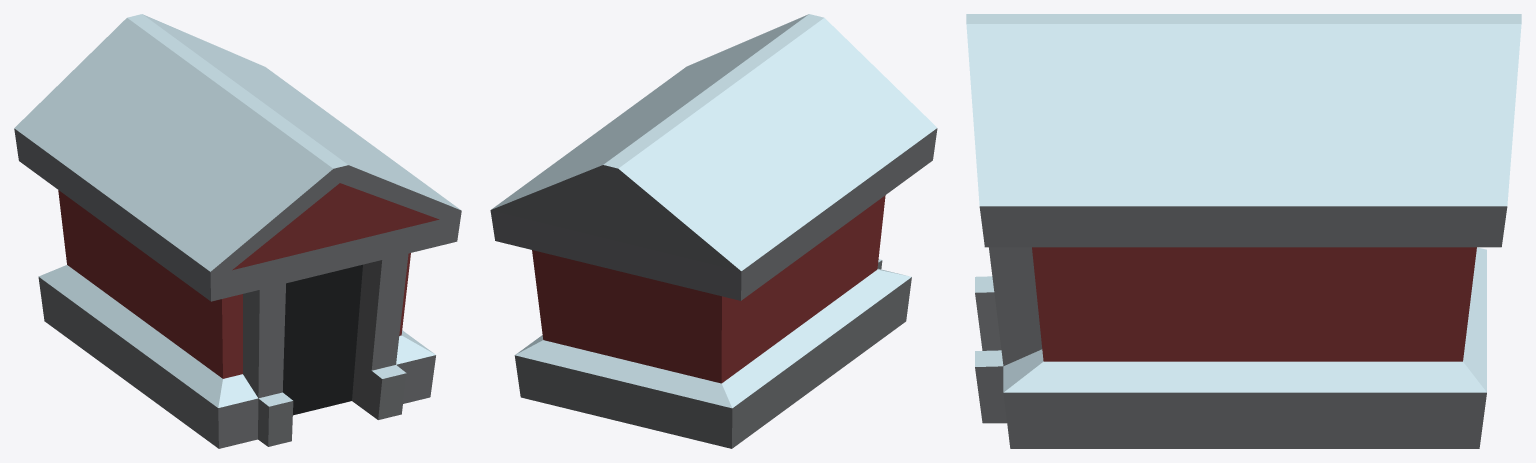
File: SM_Bld_Dungeon_Crypt_01_Snow.fbx
3 renders of one model, left to right at view 1: azimuth 30°, elevation 25°; view 2: azimuth 150°, elevation 25°; view 3: azimuth 270°, elevation 25°, orthographic. The views are drawn at different scales.
Visible parts, largest first — view 1: SM_Bld_Dungeon_Crypt_01_Snow; view 2: SM_Bld_Dungeon_Crypt_01_Snow; view 3: SM_Bld_Dungeon_Crypt_01_Snow.
Part boxes in pixels (x1,y1,x2,y2): SM_Bld_Dungeon_Crypt_01_Snow: (14,14,461,448); SM_Bld_Dungeon_Crypt_01_Snow: (490,14,937,448); SM_Bld_Dungeon_Crypt_01_Snow: (966,14,1521,448).
Bounding box in the file's own units: 61.45 × 62.66 × 87.42.
Materials: 1 (1 with a texture image).
